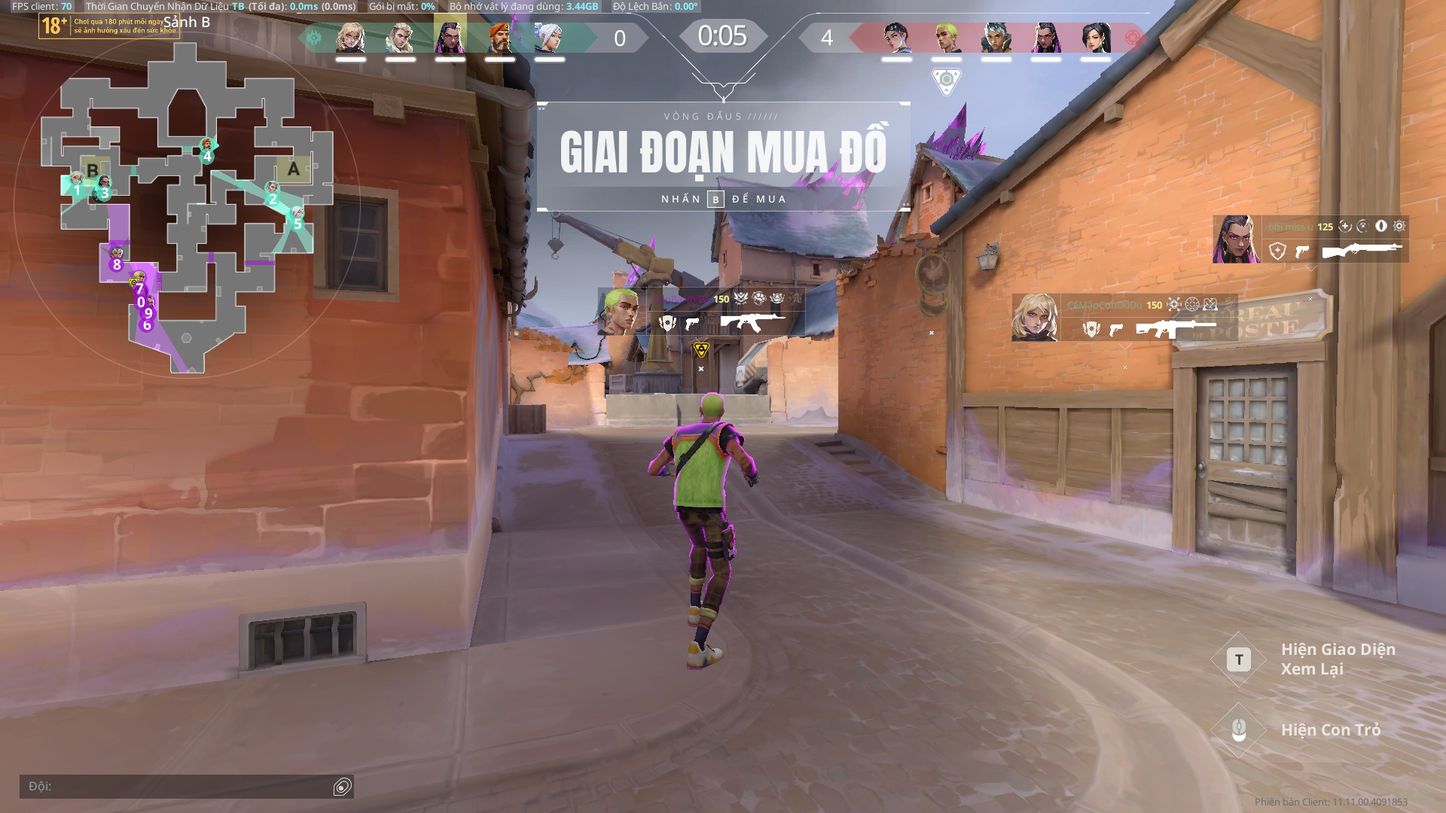body: (670, 422, 734, 502)
head: (699, 390, 725, 424)
